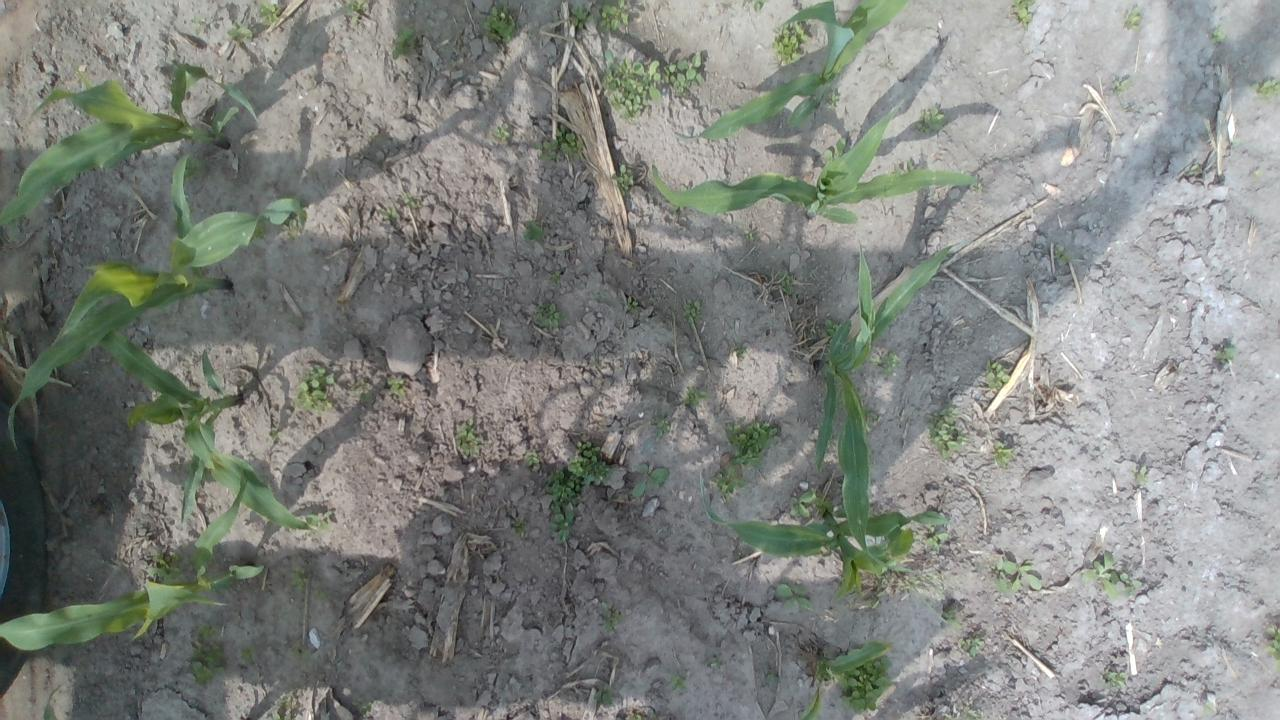Maize: (9, 154, 308, 444), (806, 236, 959, 572), (0, 461, 264, 652), (99, 327, 317, 535), (0, 61, 259, 228), (655, 105, 978, 226), (695, 468, 950, 604), (676, 0, 914, 143), (792, 638, 896, 720), (41, 681, 258, 720)
Weeds: (599, 48, 662, 123), (838, 652, 894, 715), (868, 568, 946, 609), (544, 463, 584, 542), (722, 417, 779, 470), (1081, 550, 1141, 600), (186, 620, 228, 690), (924, 399, 970, 458), (290, 362, 336, 413), (566, 439, 613, 485), (530, 122, 584, 162), (770, 20, 810, 68), (994, 556, 1042, 594), (662, 52, 704, 94), (482, 0, 521, 45), (144, 550, 194, 582), (709, 464, 748, 504), (630, 463, 670, 498), (453, 417, 483, 458), (596, 0, 632, 34), (776, 581, 814, 610), (534, 300, 566, 332), (914, 525, 948, 553), (391, 24, 418, 59), (915, 106, 947, 134), (788, 489, 816, 520), (1009, 0, 1036, 32), (598, 600, 624, 633), (1263, 625, 1280, 675), (870, 348, 900, 376), (984, 357, 1010, 389), (612, 162, 634, 197), (1250, 78, 1280, 102), (568, 3, 596, 28), (680, 384, 709, 408), (807, 318, 841, 338), (182, 154, 208, 180), (349, 378, 374, 404), (304, 510, 333, 532), (650, 410, 671, 440), (227, 18, 253, 42), (822, 136, 846, 162), (680, 297, 703, 324), (992, 440, 1014, 468), (1104, 670, 1130, 693), (287, 564, 309, 591), (957, 637, 985, 658), (522, 218, 546, 242), (592, 682, 616, 706), (282, 214, 302, 242), (270, 697, 294, 720), (258, 0, 280, 25), (667, 669, 688, 694), (861, 404, 880, 431), (777, 266, 795, 294), (238, 642, 259, 666), (344, 0, 364, 25), (488, 122, 510, 144), (274, 193, 308, 207), (890, 158, 916, 176), (386, 374, 406, 397), (1212, 345, 1236, 364), (1124, 5, 1142, 30), (292, 643, 314, 663), (1052, 243, 1072, 263), (252, 218, 270, 240), (1131, 465, 1149, 485), (190, 14, 207, 35), (624, 294, 640, 316), (313, 584, 332, 602), (356, 698, 376, 715), (1112, 78, 1130, 96), (509, 516, 526, 535), (1211, 24, 1226, 45), (742, 0, 768, 12), (403, 192, 420, 209), (732, 343, 749, 360), (962, 707, 984, 720), (524, 451, 540, 467), (942, 609, 958, 625), (378, 206, 399, 218), (825, 89, 839, 107), (6, 218, 24, 231), (708, 654, 722, 670), (268, 426, 285, 439), (742, 228, 756, 243), (549, 270, 561, 286), (764, 674, 779, 684), (972, 181, 984, 193), (1188, 164, 1202, 174), (1204, 700, 1215, 712), (1252, 169, 1262, 180), (594, 290, 605, 300), (736, 550, 746, 560), (943, 713, 956, 720), (592, 358, 600, 366), (633, 714, 642, 720)
